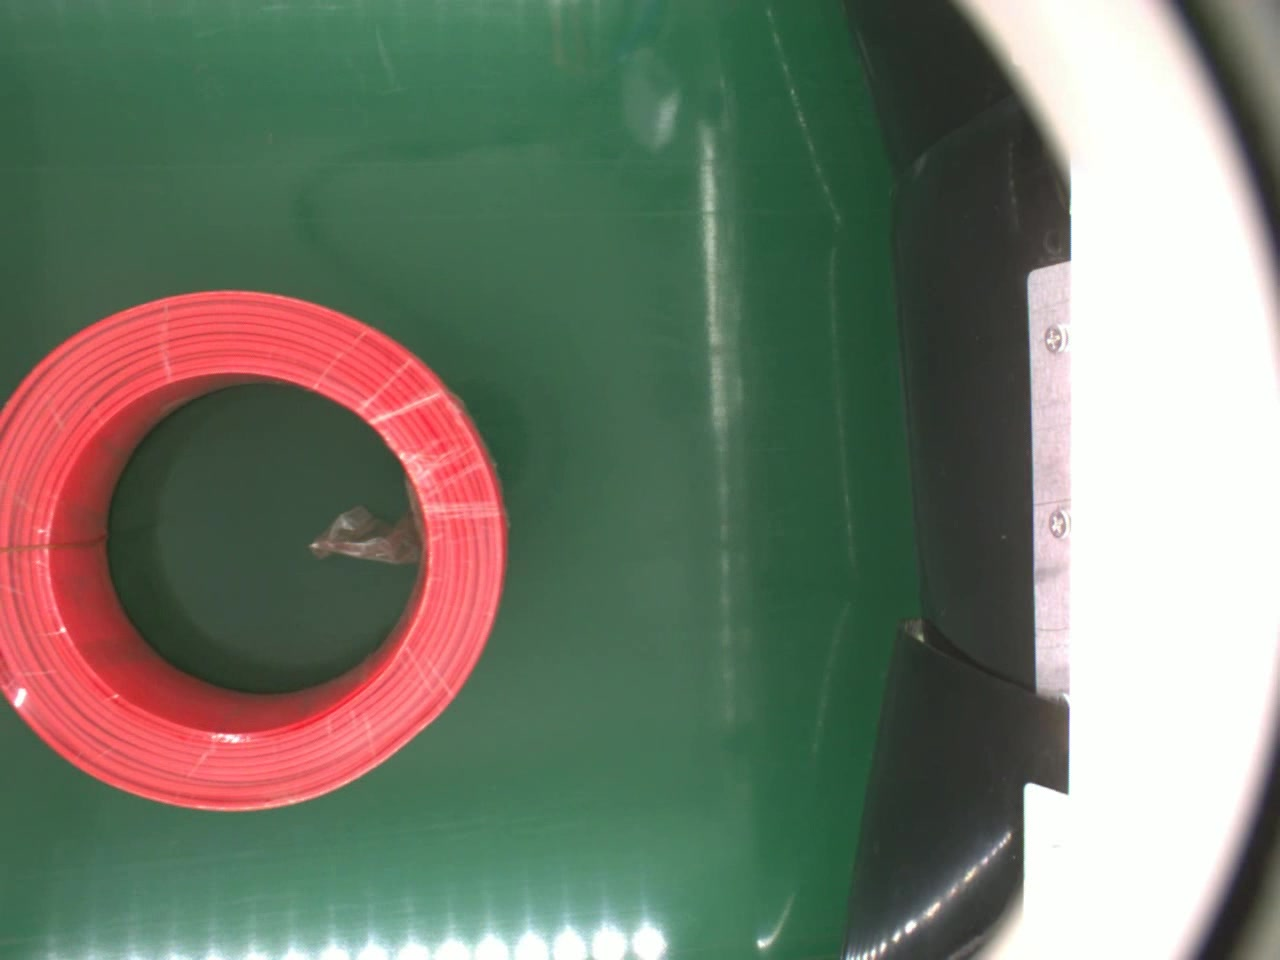red: (0, 289, 511, 814)
